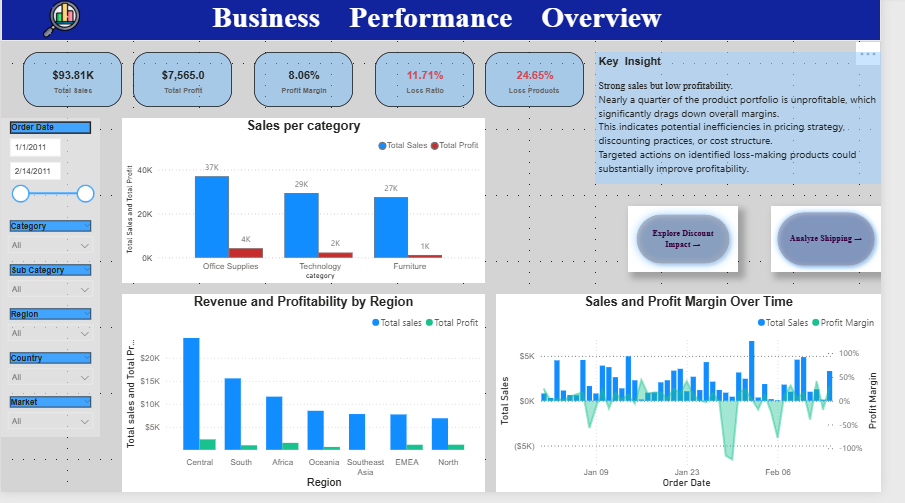

Layout of this report page (visuals, bound fields, positions):
{"tool":"powerbi","page":{"name":"Overview","canvas":[1280,720],"ordinal":0},"visuals":[{"type":"card","fields":{"Values":["Sum(DATASET.profit)"]},"box":[192,80,144,80],"z":0},{"type":"card","fields":{"Values":["Sum(DATASET.sales)"]},"box":[32,80,144,80],"z":1000},{"type":"textbox","box":[0,0,1280,64],"z":2000},{"type":"card","fields":{"Values":["DATASET.Profit Margin"]},"box":[368,80,144,80],"z":3000},{"type":"card","fields":{"Values":["DATASET.Loss Ratio"]},"box":[544,80,144,80],"z":4000},{"type":"slicer","fields":{"Values":["DATASET.order_date"]},"box":[0,176,144,144],"z":5000},{"type":"lineClusteredColumnComboChart","title":"Sales and Profit Margin Over Time","fields":{"Category":["DATASET.order_date"],"Y":["Sum(DATASET.sales)"],"Y2":["DATASET.Profit Margin"]},"box":[720,432,560,288],"z":6000},{"type":"clusteredColumnChart","title":"Sales per category","fields":{"Category":["DATASET.category"],"Y":["Sum(DATASET.sales)","Sum(DATASET.profit)"]},"box":[176,176,528,240],"z":7000},{"type":"slicer","fields":{"Values":["DATASET.country"]},"box":[0,512,144,64],"z":8000},{"type":"slicer","fields":{"Values":["DATASET.sub_category"]},"box":[0,384,144,64],"z":9000},{"type":"lineClusteredColumnComboChart","title":"Revenue and Profitability by Region","fields":{"Category":["DATASET.region"],"Y":["Sum(DATASET.sales)","Sum(DATASET.profit)"]},"box":[176,432,528,288],"z":10000},{"type":"actionButton","title":"Go to Discount Analysis","box":[912,304,160,96],"z":11000},{"type":"actionButton","title":"Go to Discount Analysis","box":[1120,304,160,96],"z":12000},{"type":"textbox","box":[864,80,416,192],"z":13000},{"type":"image","box":[0,0,176,64],"z":14000},{"type":"card","fields":{"Values":["DATASET.Loss Products %"]},"box":[704,80,144,80],"z":15000},{"type":"slicer","fields":{"Values":["DATASET.category"]},"box":[0,320,144,64],"z":16000},{"type":"slicer","fields":{"Values":["DATASET.region"]},"box":[0,448,144,64],"z":17000},{"type":"slicer","fields":{"Values":["DATASET.market"]},"box":[0,576,144,64],"z":18000}]}

Visuals, with their boxes in screenshot pixels (x1, y1, x2, y2), scaled from the page's 1280x720 canvas onto the 905x503 screenshot:
card - Sum(DATASET.profit): <bbox>136, 56, 238, 112</bbox>
card - Sum(DATASET.sales): <bbox>23, 56, 124, 112</bbox>
textbox: <bbox>0, 0, 904, 45</bbox>
card - DATASET.Profit Margin: <bbox>260, 56, 362, 112</bbox>
card - DATASET.Loss Ratio: <bbox>385, 56, 486, 112</bbox>
slicer - DATASET.order_date: <bbox>0, 123, 102, 224</bbox>
"Sales and Profit Margin Over Time" lineClusteredColumnComboChart: <bbox>509, 302, 904, 502</bbox>
"Sales per category" clusteredColumnChart: <bbox>124, 123, 498, 291</bbox>
slicer - DATASET.country: <bbox>0, 358, 102, 402</bbox>
slicer - DATASET.sub_category: <bbox>0, 268, 102, 313</bbox>
"Revenue and Profitability by Region" lineClusteredColumnComboChart: <bbox>124, 302, 498, 502</bbox>
"Go to Discount Analysis" actionButton: <bbox>645, 212, 758, 279</bbox>
"Go to Discount Analysis" actionButton: <bbox>792, 212, 904, 279</bbox>
textbox: <bbox>611, 56, 904, 190</bbox>
image: <bbox>0, 0, 124, 45</bbox>
card - DATASET.Loss Products %: <bbox>498, 56, 600, 112</bbox>
slicer - DATASET.category: <bbox>0, 224, 102, 268</bbox>
slicer - DATASET.region: <bbox>0, 313, 102, 358</bbox>
slicer - DATASET.market: <bbox>0, 402, 102, 447</bbox>
